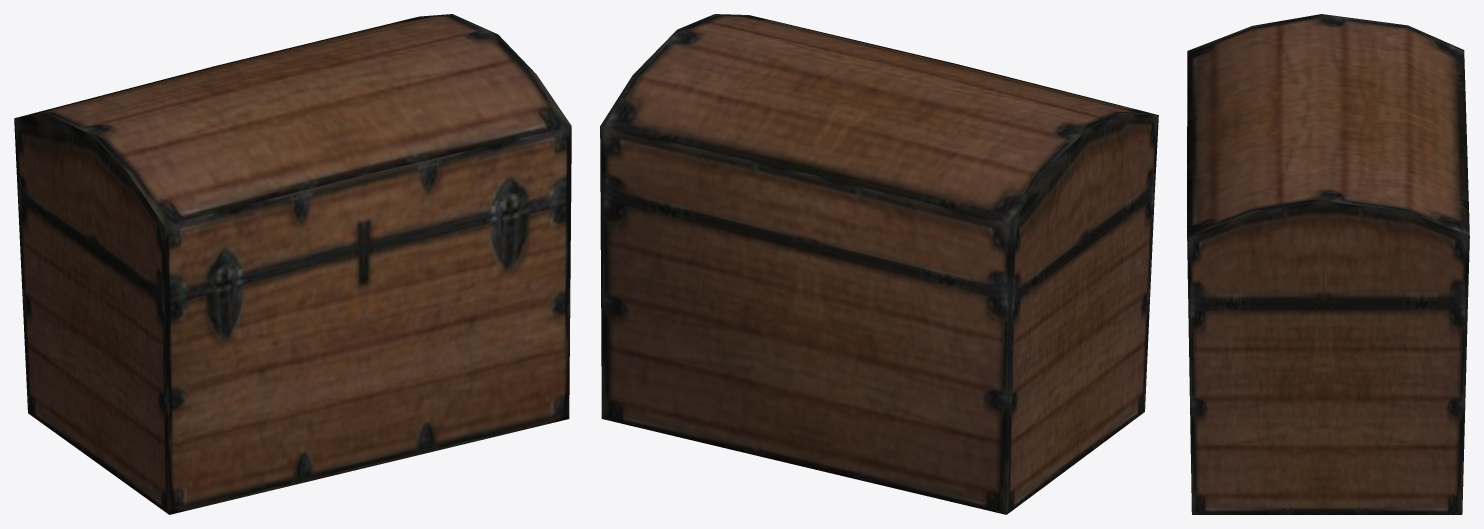
The model's file is Trunk_rounded.fbx.
3 renders of one model, left to right at view 1: azimuth 30°, elevation 25°; view 2: azimuth 150°, elevation 25°; view 3: azimuth 270°, elevation 25°, orthographic. The views are drawn at different scales.
Visible parts, largest first — view 1: lod_high; view 2: lod_high; view 3: lod_high.
Part boxes in pixels (x1,y1,x2,y2): lod_high: [14, 14, 571, 514]; lod_high: [600, 14, 1158, 514]; lod_high: [1187, 14, 1469, 514].
Size of the model in its own units: 284 by 222 by 180.
1 material, 1 textured.
